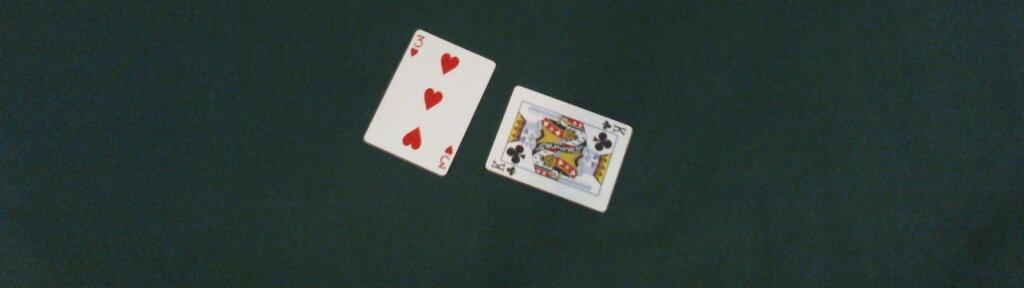king: (483, 84, 633, 212)
three: (363, 28, 495, 177)
